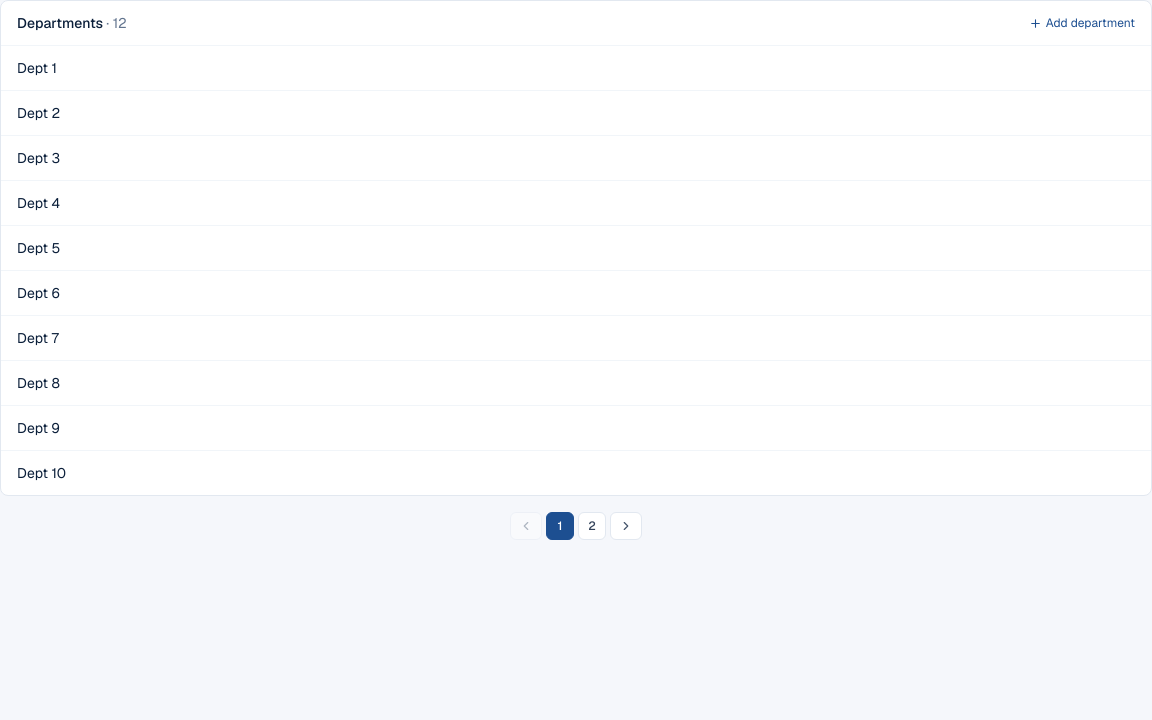
OrganizationDepartments › paginates past ten departments
Expected: the text "Dept 11" is not shown
Click the button named "Next page" at (626,526), box x1=610 y1=512 x2=642 y2=540
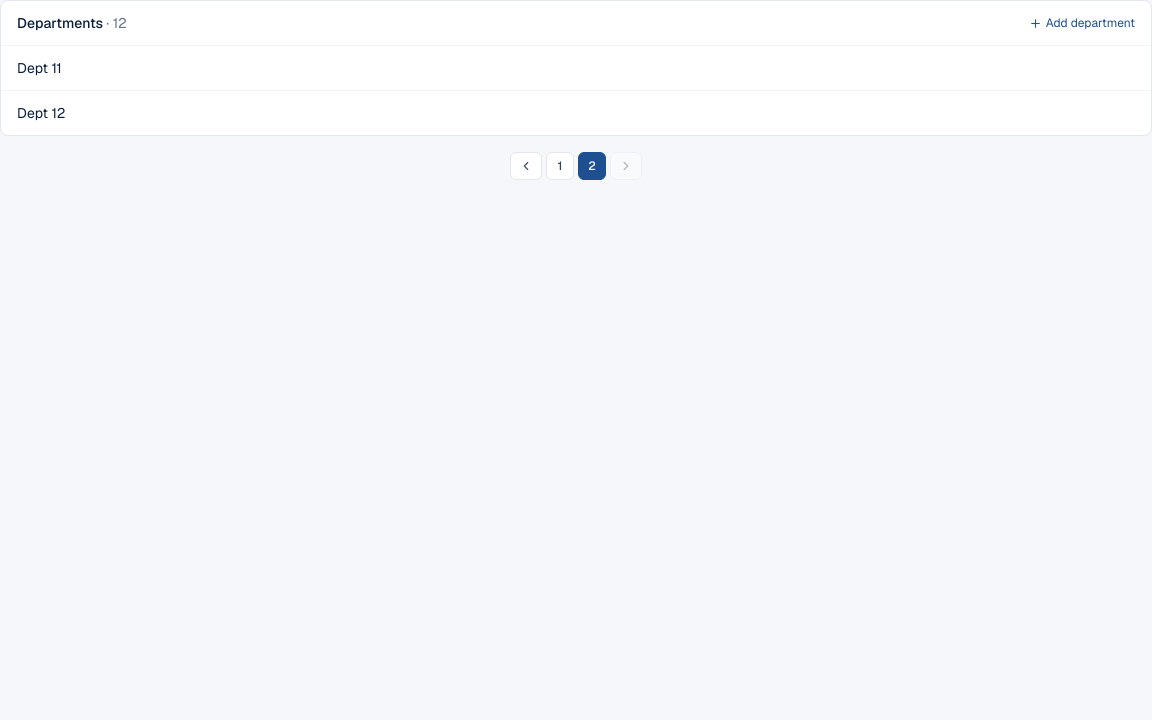
Now the text "Dept 11" is shown, box x1=17 y1=58 x2=62 y2=78
